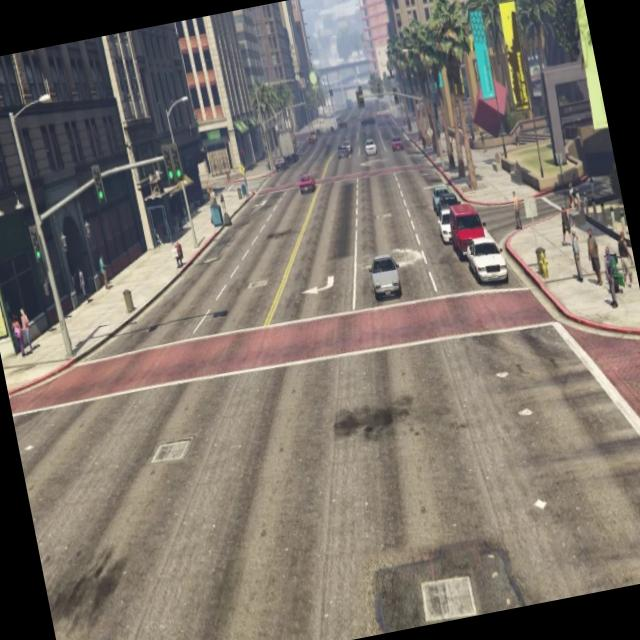Green-Signal: (159, 142, 201, 213), (22, 212, 58, 282), (86, 158, 116, 220)
